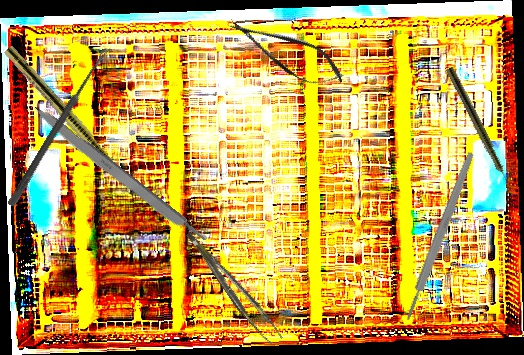Handpiece: (1, 44, 139, 195), (444, 66, 516, 194)
Micro Scissor: (221, 6, 352, 99)
Scalpel Handle: (29, 103, 209, 248), (402, 150, 477, 322)
Surgical Spoon: (7, 47, 109, 208)
Tissue Forceps: (186, 222, 283, 351)
